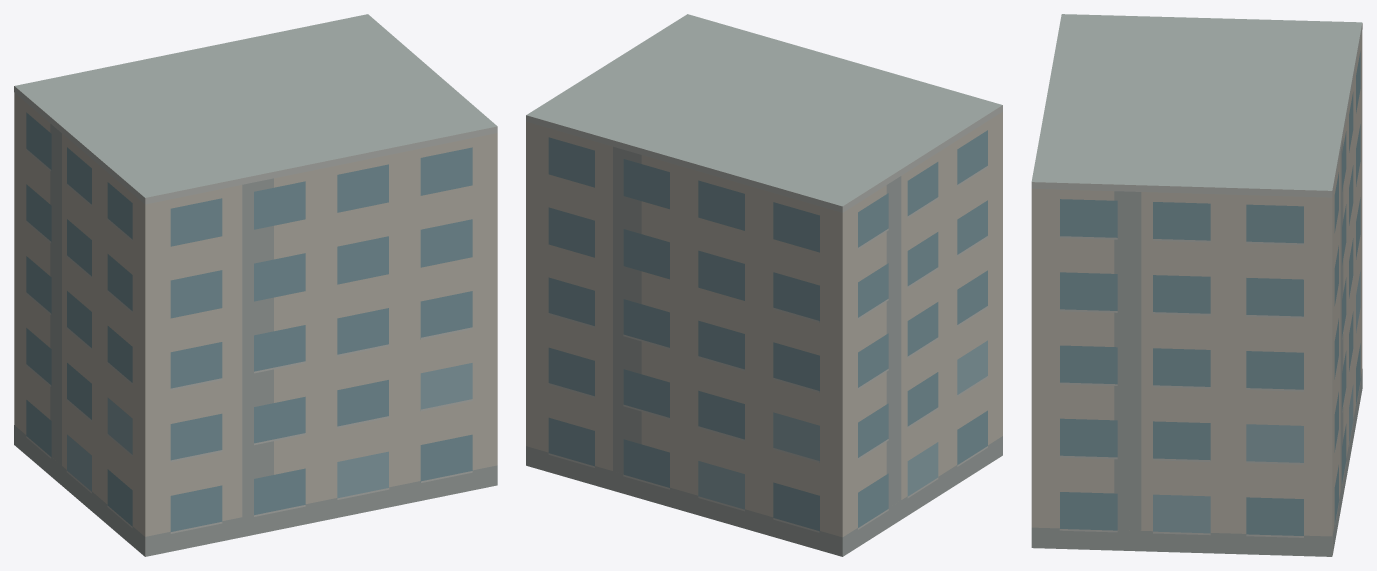
File: survey-upis-32981620.glb
The picture shows the model from 3 angles, left to right: view 1: azimuth 30°, elevation 25°; view 2: azimuth 150°, elevation 25°; view 3: azimuth 270°, elevation 25°; orthographic projection. The views are drawn at different scales.
Parts seen in each view (by area): view 1: survey-upis-32981620.tmp; view 2: survey-upis-32981620.tmp; view 3: survey-upis-32981620.tmp.
Boxes of the visible parts, x1=… form: survey-upis-32981620.tmp: x1=14, y1=14, x2=497, y2=556; survey-upis-32981620.tmp: x1=526, y1=14, x2=1002, y2=556; survey-upis-32981620.tmp: x1=1031, y1=14, x2=1362, y2=556.
Size of the model in its own units: 13.8 by 13.3 by 10.91.
